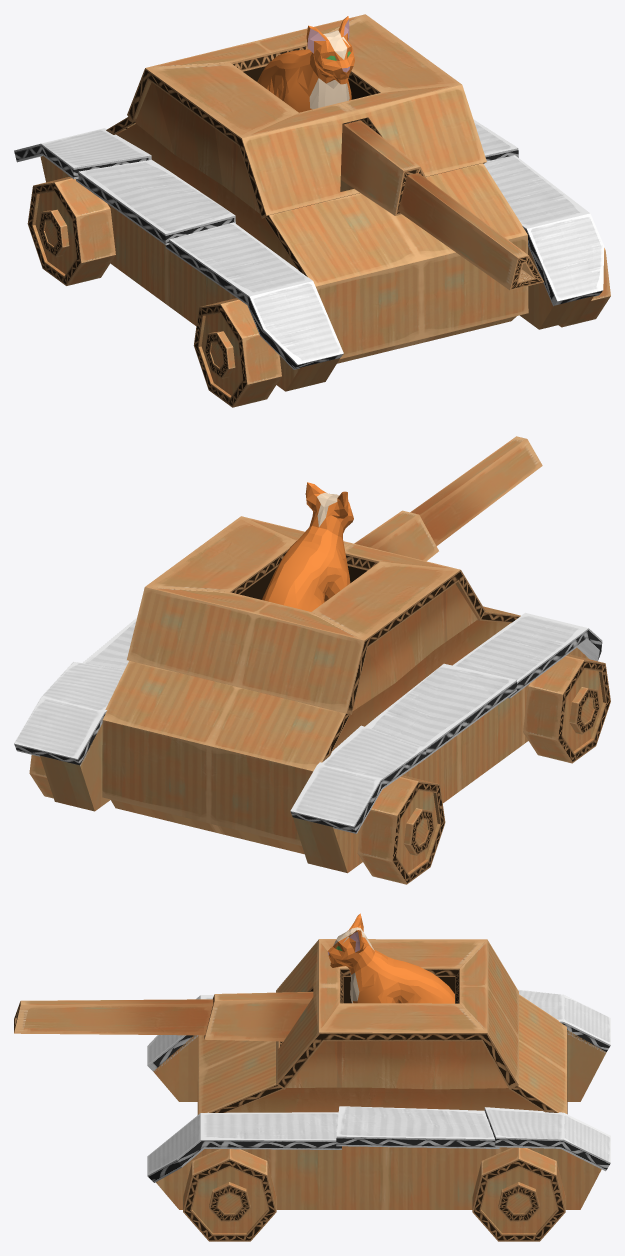
The model's file is cat_tank.FBX.
3 renders of one model, top to bottom at view 1: azimuth 30°, elevation 25°; view 2: azimuth 150°, elevation 25°; view 3: azimuth 270°, elevation 25°, orthographic. The views are drawn at different scales.
Visible parts, largest first — view 1: tank, tank_team, cat; view 2: tank, tank_team, cat; view 3: tank, tank_team, cat.
Boxes of the visible parts, bbox=[...] form: tank: bbox=[27, 14, 610, 407]; tank_team: bbox=[14, 119, 604, 369]; cat: bbox=[257, 16, 354, 112]; tank: bbox=[29, 436, 610, 884]; tank_team: bbox=[14, 612, 602, 833]; cat: bbox=[262, 482, 353, 611]; tank: bbox=[14, 939, 606, 1241]; tank_team: bbox=[147, 989, 610, 1182]; cat: bbox=[327, 913, 454, 1003].
Bounding box in the file's own units: 19.53 × 14.02 × 31.23.
3 materials, 3 textured.
